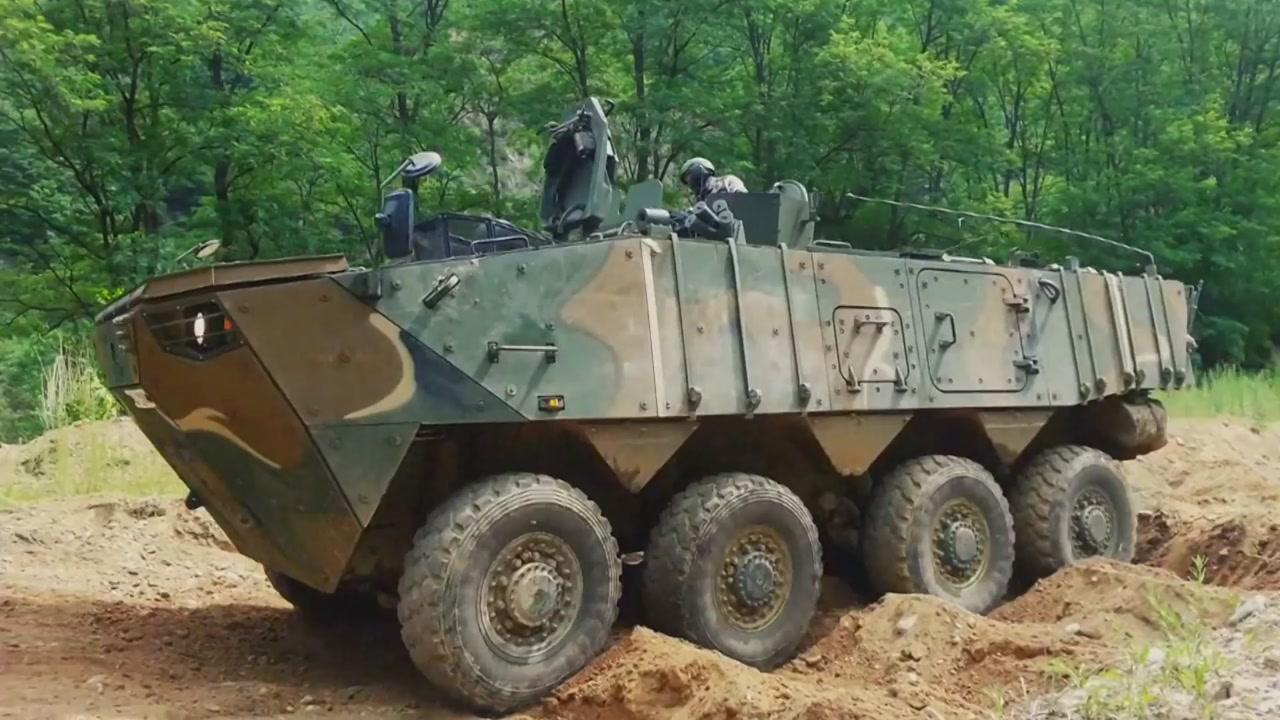MIL_IFV: (89, 95, 1202, 716)
